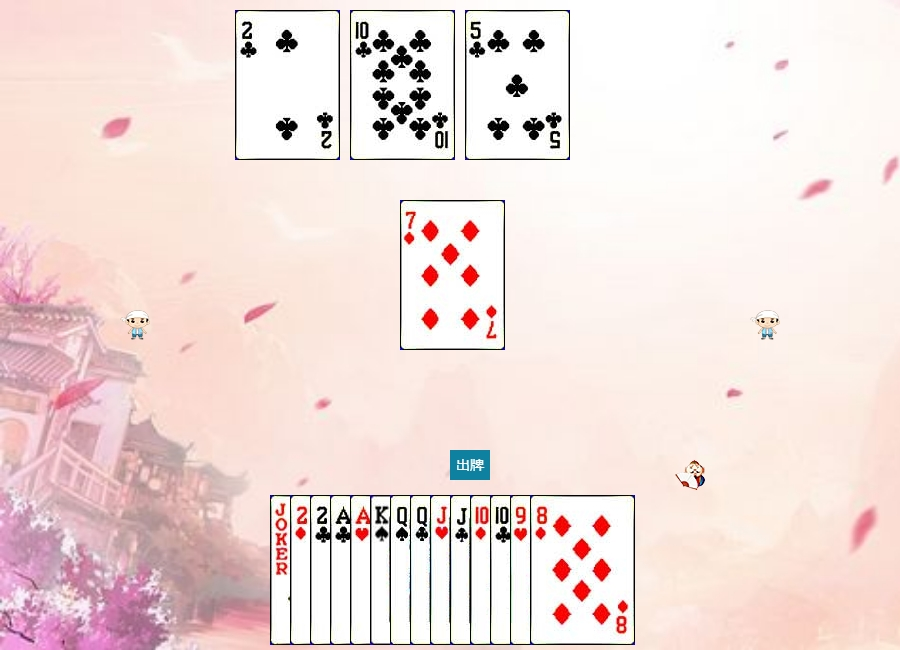10~1: (470, 495, 575, 645)
10~2: (350, 10, 455, 160), (490, 495, 595, 645)
11~2: (450, 495, 555, 645)
11~3: (430, 495, 535, 645)
12~2: (410, 495, 515, 645)
12~4: (390, 495, 495, 645)
13~4: (370, 495, 475, 645)
14~2: (330, 495, 435, 645)
14~3: (350, 495, 455, 645)
15~1: (290, 495, 395, 645)
15~2: (235, 10, 340, 160), (310, 495, 415, 645)
18~4: (270, 495, 375, 645)
5~2: (465, 10, 570, 160)
7~1: (400, 200, 505, 350)
8~1: (530, 495, 635, 645)
9~3: (510, 495, 615, 645)
